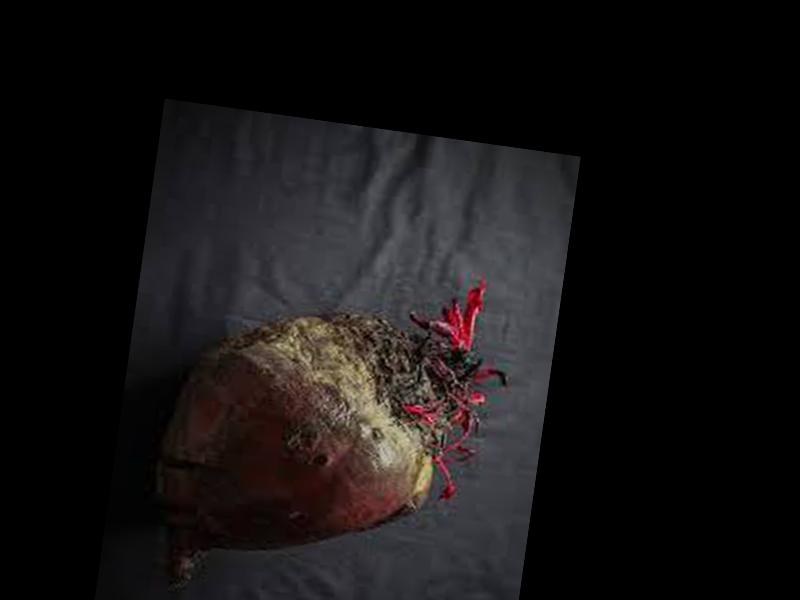Beet: (142, 240, 520, 600)
